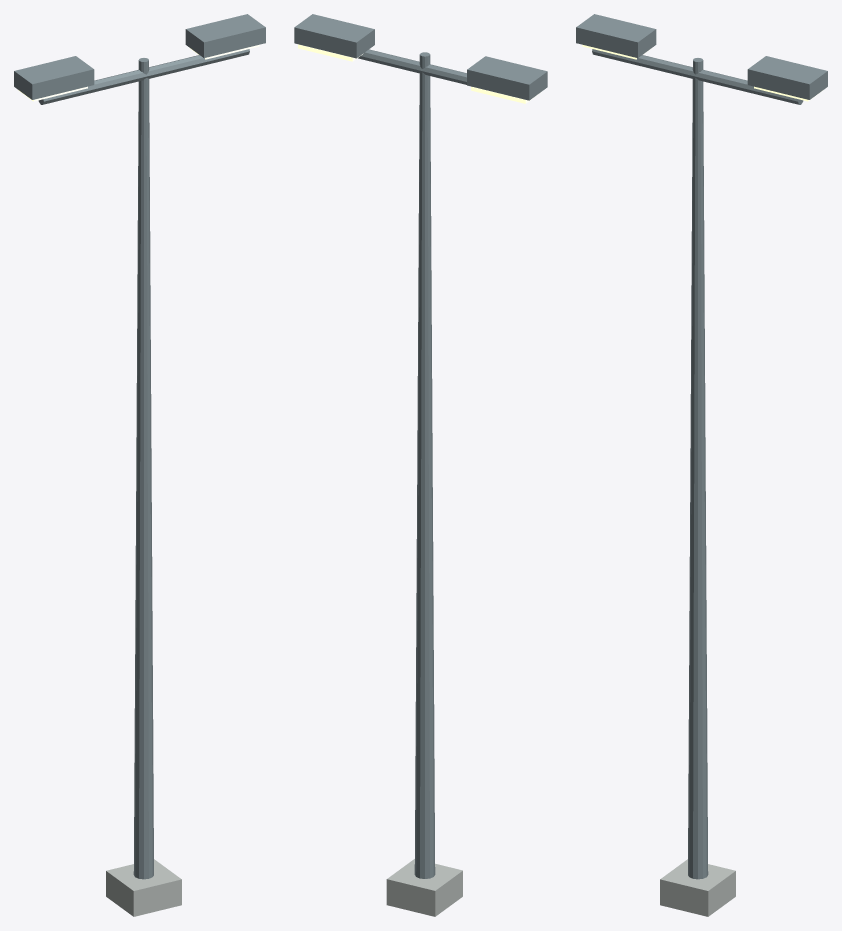
Rendered from park-floodlight.glb.
3 views of the same model, side by side, from view 1: azimuth 30°, elevation 25°; view 2: azimuth 150°, elevation 25°; view 3: azimuth 330°, elevation 25° (orthographic).
Visible parts, largest first — view 1: park_floodlight_steel, park_floodlight_concrete; view 2: park_floodlight_steel, park_floodlight_concrete, park_floodlight_lamp; view 3: park_floodlight_steel, park_floodlight_concrete.
Part boxes in pixels (x1,y1,x2,y2): park_floodlight_steel: [14, 14, 265, 879]; park_floodlight_concrete: [106, 859, 181, 916]; park_floodlight_steel: [294, 14, 547, 878]; park_floodlight_concrete: [386, 859, 462, 916]; park_floodlight_lamp: [298, 44, 541, 103]; park_floodlight_steel: [576, 14, 827, 879]; park_floodlight_concrete: [660, 859, 735, 916].
Size of the model in its own units: 3.4 by 11.81 by 0.7.
